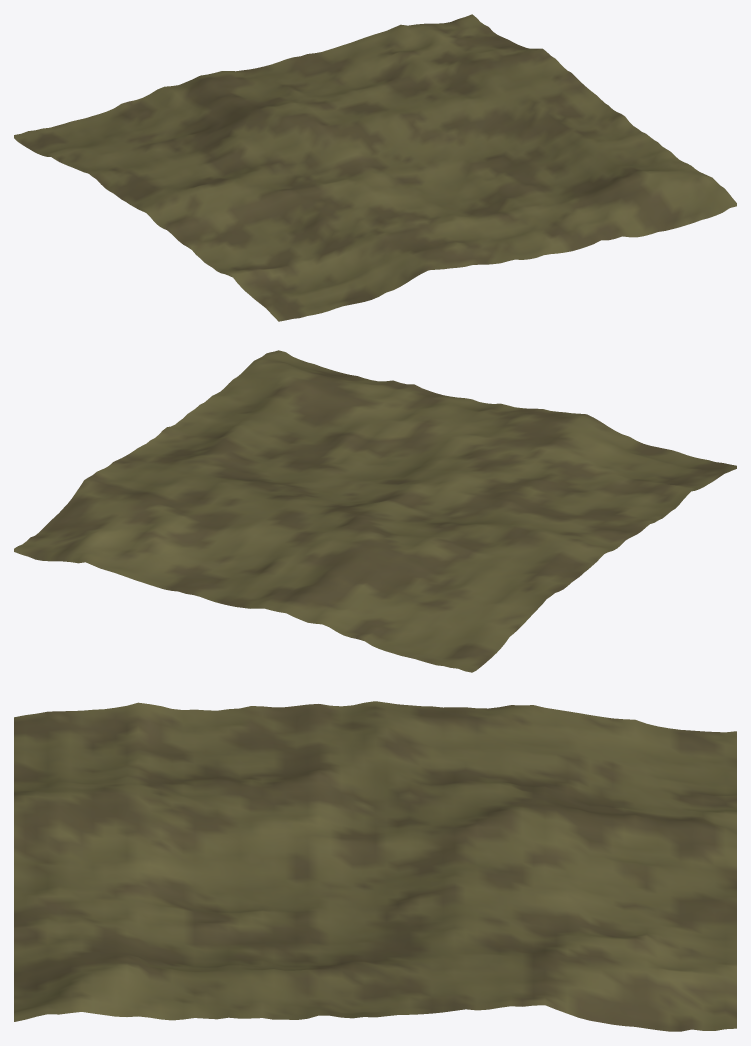
The model's file is land_f_03_00.glb.
The picture shows the model from 3 angles, top to bottom: view 1: azimuth 30°, elevation 25°; view 2: azimuth 150°, elevation 25°; view 3: azimuth 270°, elevation 25°; orthographic projection. The views are drawn at different scales.
Visible parts, largest first — view 1: land_f_03_00; view 2: land_f_03_00; view 3: land_f_03_00.
Part boxes in pixels (x1,y1,x2,y2): land_f_03_00: [14, 14, 736, 321]; land_f_03_00: [14, 350, 736, 672]; land_f_03_00: [14, 701, 736, 1031].
Size of the model in its own units: 3840 by 299 by 3840.
